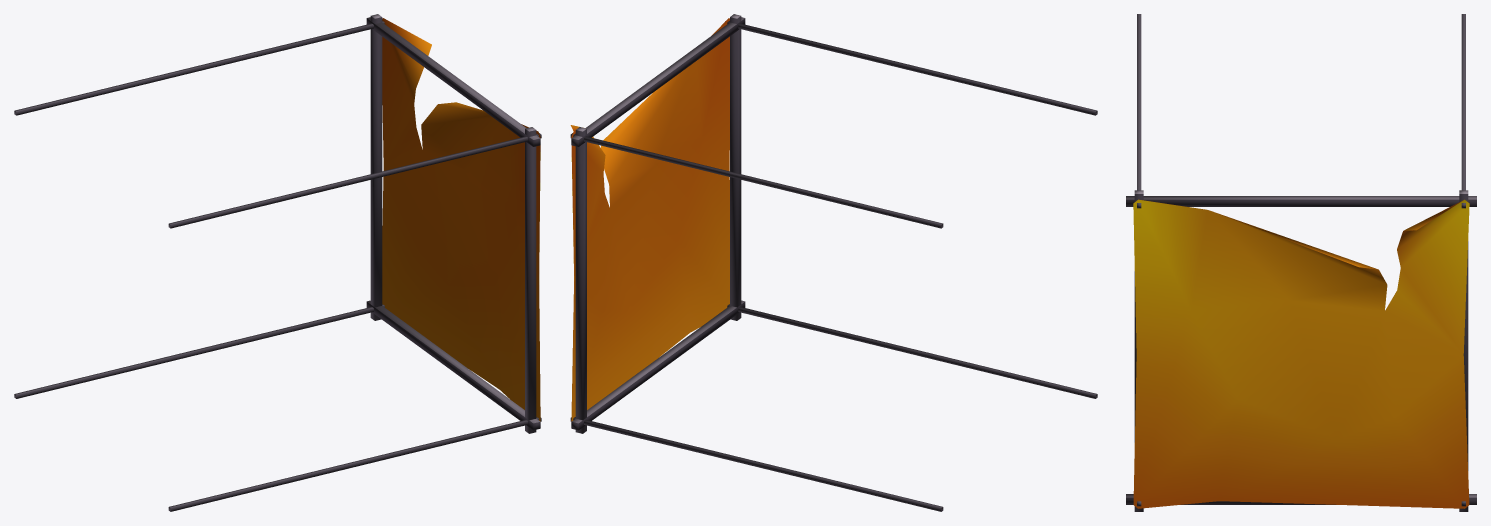
Rendered from Safety_Net_2D.fbx.
3 renders of one model, left to right at view 1: azimuth 30°, elevation 25°; view 2: azimuth 150°, elevation 25°; view 3: azimuth 270°, elevation 25°, orthographic. The views are drawn at different scales.
Parts seen in each view (by area): view 1: Safety_Net_2D; view 2: Safety_Net_2D; view 3: Safety_Net_2D.
Boxes of the visible parts, box(x1,y1,x2,y2) form: Safety_Net_2D: box(14, 14, 541, 511); Safety_Net_2D: box(570, 14, 1097, 511); Safety_Net_2D: box(1126, 14, 1476, 511).
Bounding box in the file's own units: 546 × 400 × 400.
